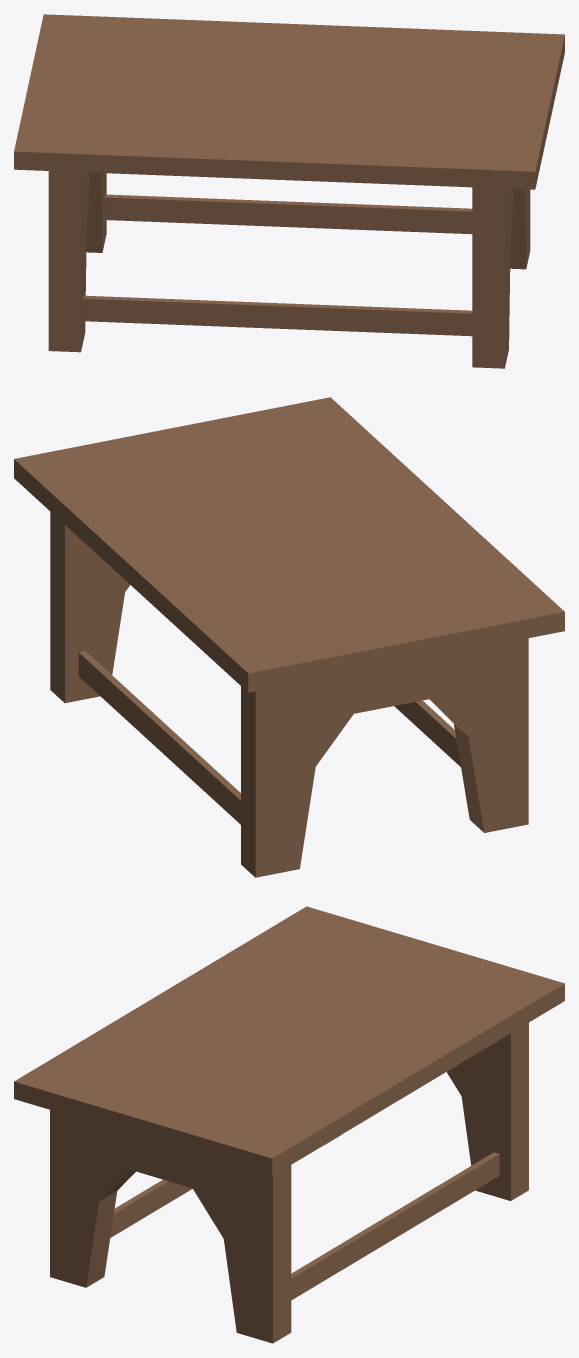
Rendered from mesa_corte.fbx.
The picture shows the model from 3 angles, top to bottom: view 1: azimuth 30°, elevation 25°; view 2: azimuth 150°, elevation 25°; view 3: azimuth 270°, elevation 25°; orthographic projection. The views are drawn at different scales.
Parts seen in each view (by area): view 1: Стол; view 2: Стол; view 3: Стол.
Boxes of the visible parts, box(x1,y1,x2,y2) form: Стол: box(14, 14, 564, 368); Стол: box(14, 397, 564, 877); Стол: box(14, 906, 564, 1343).
Bounding box in the file's own units: 1070 × 398 × 988.
